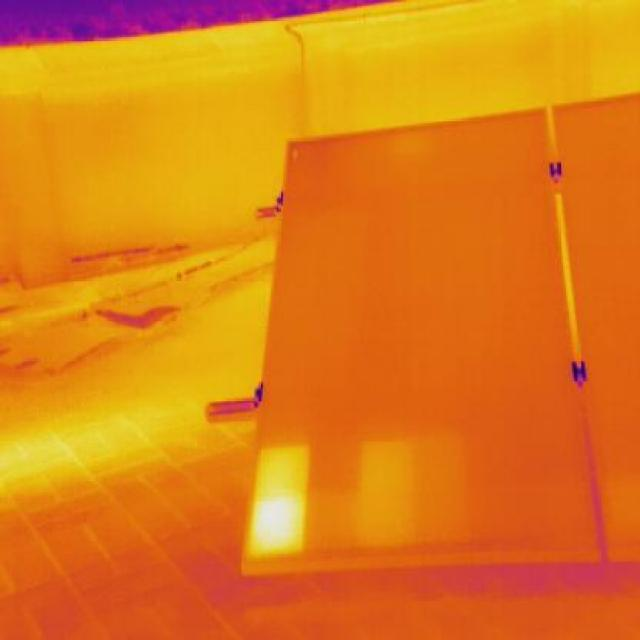hotspot: (415, 435, 480, 553), (254, 444, 312, 564), (360, 441, 422, 552)
